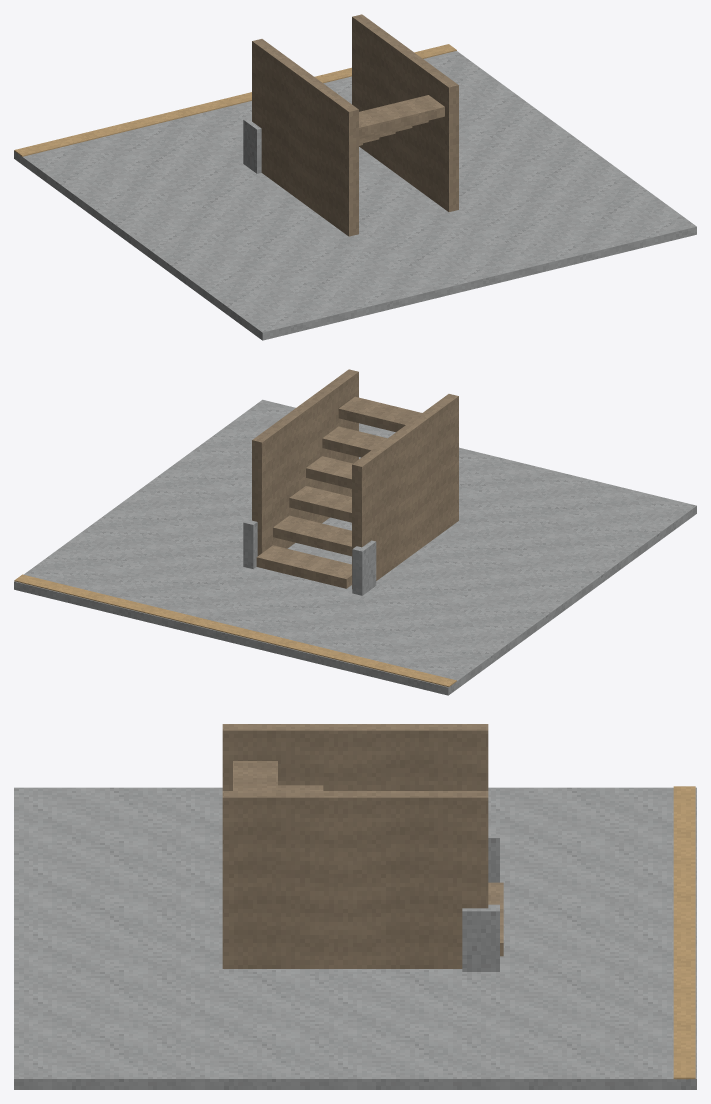
File: level_blockout_kit_mansion_p06.glb
3 views of the same model, one above another, from view 1: azimuth 30°, elevation 25°; view 2: azimuth 150°, elevation 25°; view 3: azimuth 270°, elevation 25° (orthographic). The views are drawn at different scales.
Parts seen in each view (by area): view 1: level_blockout_kit_mansion_p06; view 2: level_blockout_kit_mansion_p06; view 3: level_blockout_kit_mansion_p06.
Boxes of the visible parts, bbox=[...] form: level_blockout_kit_mansion_p06: bbox=[14, 14, 696, 340]; level_blockout_kit_mansion_p06: bbox=[14, 369, 696, 695]; level_blockout_kit_mansion_p06: bbox=[14, 724, 696, 1089].
Bounding box in the file's own units: 5.65 × 1.66 × 5.6.
3 materials, 3 textured.
